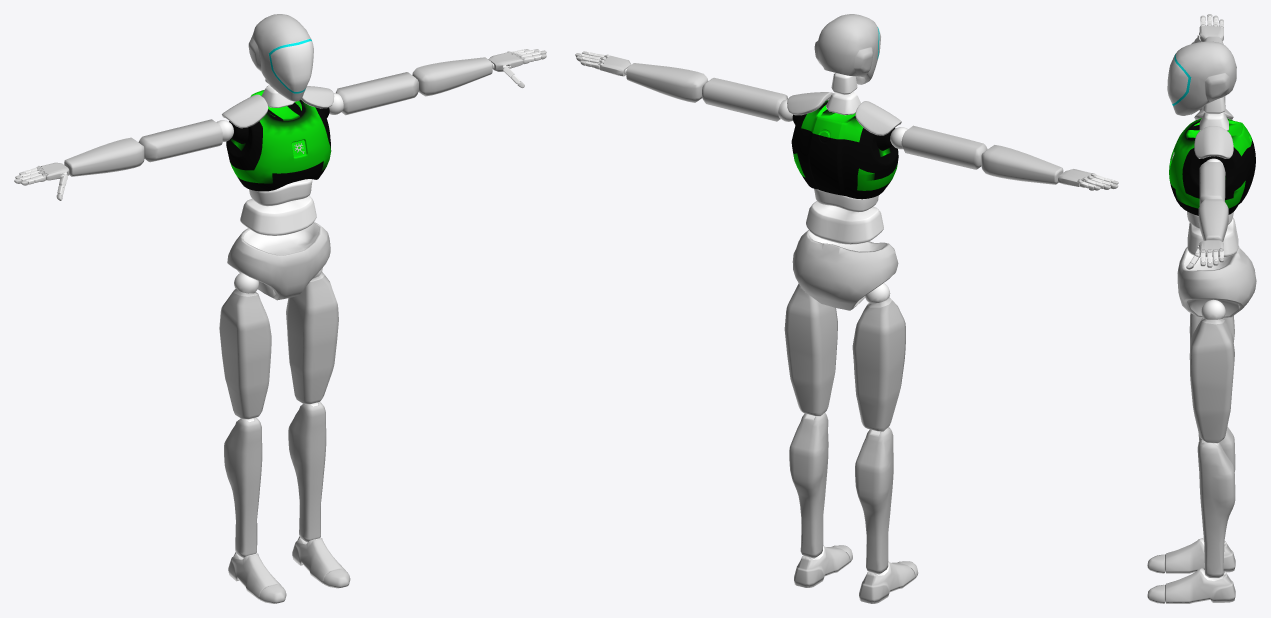
Rendered from PN_Avatar_Stickman01_ThumbOpen.fbx.
3 views of the same model, side by side, from view 1: azimuth 30°, elevation 25°; view 2: azimuth 150°, elevation 25°; view 3: azimuth 270°, elevation 25° (orthographic). The views are drawn at different scales.
Parts seen in each view (by area): view 1: SM_Spine6, SM_RightUpLeg, SM_LeftUpLeg, SM_Hips, SM_Head, SM_RightLeg, SM_LeftLeg, SM_RightArm, SM_LeftArm, SM_Spine, SM_RightForeArm, SM_LeftForeArm (+4 smaller); view 2: SM_Spine6, SM_RightUpLeg, SM_Hips, SM_LeftUpLeg, SM_LeftLeg, SM_RightLeg, SM_Head, SM_RightArm, SM_Spine, SM_LeftArm, SM_RightForeArm, SM_LeftForeArm (+5 smaller); view 3: SM_LeftUpLeg, SM_Spine6, SM_Head, SM_Hips, SM_LeftLeg, SM_LeftFoot, SM_RightFoot, SM_LeftForeArm, SM_LeftShoulder, SM_LeftArm, SM_Spine, SM_Neck (+8 smaller).
Boxes of the visible parts, x1,y1,x2,y2 form: SM_Spine6: (226,90,331,191); SM_RightUpLeg: (219,272,271,419); SM_LeftUpLeg: (286,268,338,404); SM_Hips: (227,222,330,300); SM_Head: (248,14,313,101); SM_RightLeg: (224,417,262,558); SM_LeftLeg: (288,402,326,542); SM_RightArm: (138,119,233,162); SM_LeftArm: (329,72,418,115); SM_Spine: (240,195,316,235); SM_RightForeArm: (64,137,144,176); SM_LeftForeArm: (412,57,492,96); SM_Spine6: (791,100,898,199); SM_RightUpLeg: (852,283,905,431); SM_Hips: (792,230,898,310); SM_LeftUpLeg: (784,283,837,416); SM_LeftLeg: (789,413,828,558); SM_RightLeg: (855,427,893,574); SM_Head: (814,14,880,84); SM_RightArm: (890,125,987,169); SM_Spine: (806,201,883,244); SM_LeftArm: (702,77,792,121); SM_RightForeArm: (981,145,1063,184); SM_LeftForeArm: (626,63,708,102); SM_LeftUpLeg: (1189,299,1234,443); SM_Spine6: (1169,118,1255,215); SM_Head: (1167,41,1236,115); SM_Hips: (1177,246,1256,317); SM_LeftLeg: (1197,440,1235,577); SM_LeftFoot: (1165,568,1235,603); SM_RightFoot: (1165,538,1235,573); SM_LeftForeArm: (1198,199,1228,241); SM_LeftShoulder: (1194,126,1233,158); SM_LeftArm: (1199,158,1225,205); SM_Spine: (1187,217,1238,257); SM_Neck: (1199,112,1228,130).
Bounding box in the file's own units: 183 × 33.51 × 183.
